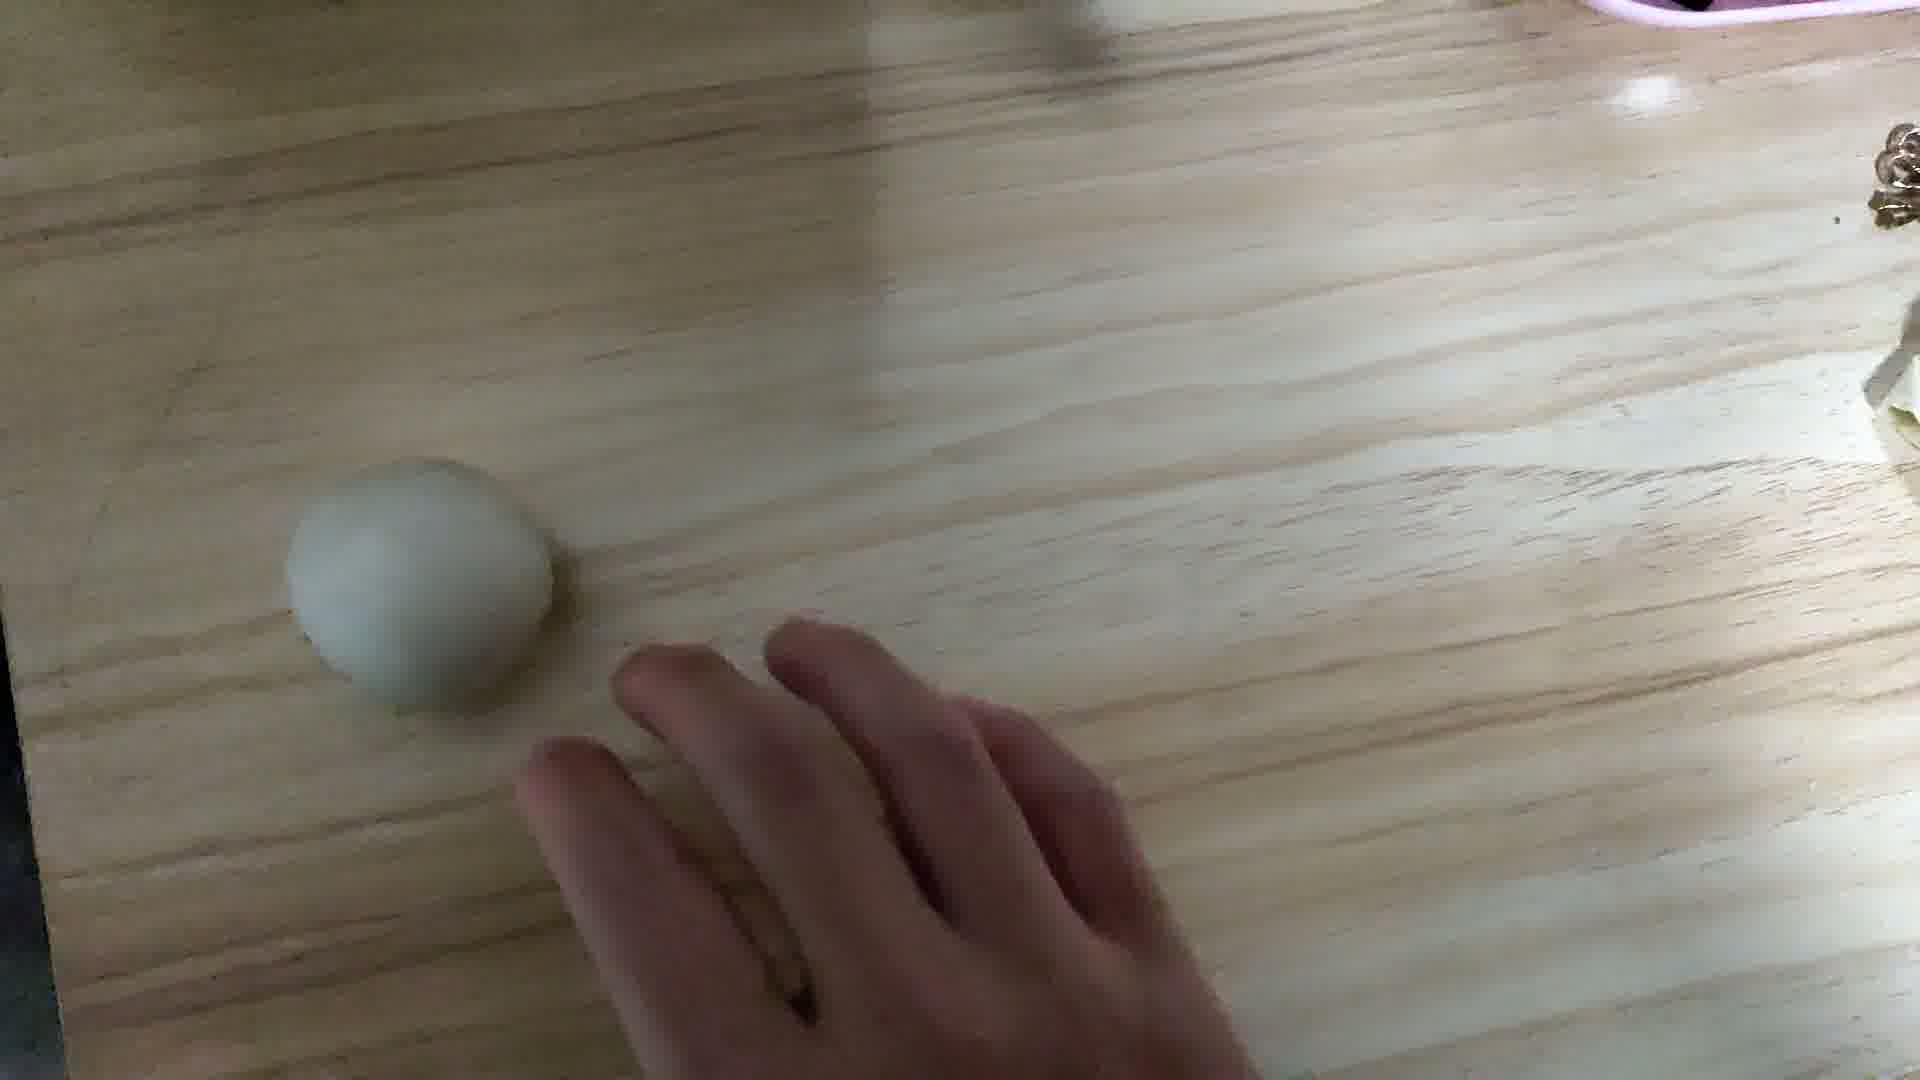Ball: (285, 458, 556, 692)
